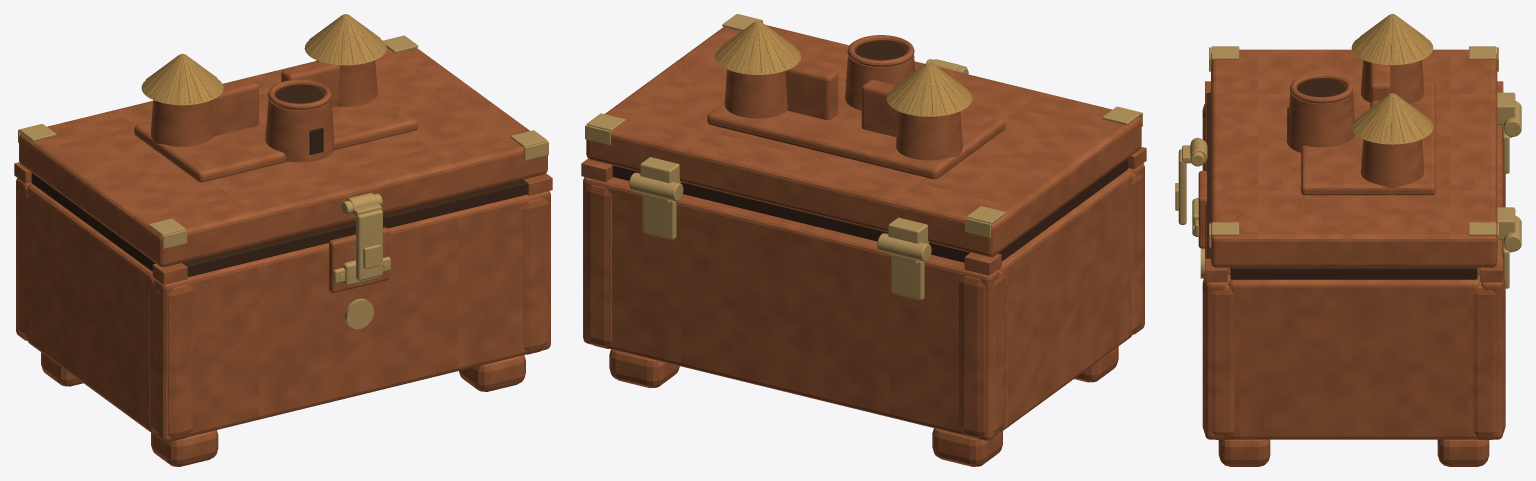
The model's file is benin.glb.
The picture shows the model from 3 angles, left to right: view 1: azimuth 30°, elevation 25°; view 2: azimuth 150°, elevation 25°; view 3: azimuth 270°, elevation 25°; orthographic projection. The views are drawn at different scales.
Visible parts, largest first — view 1: Earth body / front, Lid / polished slab, Earth body / side, Takienta / terrace, Earth / rounded buttress, Umber seam / long, Earth / rounded buttress.002, Takienta / tower flat, Takienta / thatched roof, Takienta / thatched roof.001, Takienta / tower roofed, Takienta / joining wall (+13 smaller); view 2: Earth body / rear, Lid / polished slab, Earth body / side, Takienta / terrace, Earth / rounded buttress.001, Earth / rounded buttress.003, Umber seam / long.001, Takienta / tower roofed, Takienta / thatched roof.001, Takienta / thatched roof, Takienta / tower roofed.001, Takienta / joining wall.001 (+17 smaller); view 3: Lid / polished slab, Earth body / side.001, Takienta / terrace, Earth / rounded buttress.002, Earth / rounded buttress.003, Umber seam / side.001, Takienta / tower flat, Takienta / tower roofed.001, Takienta / thatched roof.001, Takienta / thatched roof, Earth body / rear, Earth body / front (+19 smaller).
Part boxes in pixels (<box>): Earth body / front: <box>154,191,550,441</box>; Lid / polished slab: <box>19,47,547,266</box>; Earth body / side: <box>27,184,154,433</box>; Takienta / terrace: <box>134,92,418,182</box>; Earth / rounded buttress: <box>149,278,192,441</box>; Umber seam / long: <box>182,179,527,276</box>; Earth / rounded buttress.002: <box>523,198,548,354</box>; Takienta / tower flat: <box>265,92,334,162</box>; Takienta / thatched roof: <box>141,53,223,105</box>; Takienta / thatched roof.001: <box>304,14,386,65</box>; Takienta / tower roofed: <box>150,100,213,150</box>; Takienta / joining wall: <box>210,79,258,136</box>; Earth body / rear: <box>583,177,999,440</box>; Lid / polished slab: <box>586,25,1141,256</box>; Earth body / side: <box>999,170,1132,431</box>; Takienta / terrace: <box>707,79,1005,179</box>; Earth / rounded buttress.001: <box>959,269,1005,439</box>; Earth / rounded buttress.003: <box>585,184,611,348</box>; Umber seam / long.001: <box>612,165,970,262</box>; Takienta / tower roofed: <box>896,111,962,164</box>; Takienta / thatched roof.001: <box>715,21,800,74</box>; Takienta / thatched roof: <box>886,62,972,116</box>; Takienta / tower roofed.001: <box>724,69,787,118</box>; Takienta / joining wall.001: <box>785,61,838,120</box>; Lid / polished slab: <box>1211,49,1497,267</box>; Earth body / side.001: <box>1228,279,1479,439</box>; Takienta / terrace: <box>1301,81,1435,195</box>; Earth / rounded buttress.002: <box>1202,274,1234,439</box>; Earth / rounded buttress.003: <box>1473,274,1505,439</box>; Umber seam / side.001: <box>1230,267,1477,279</box>; Takienta / tower flat: <box>1286,85,1355,152</box>; Takienta / tower roofed.001: <box>1360,139,1424,195</box>; Takienta / thatched roof.001: <box>1351,93,1433,144</box>; Takienta / thatched roof: <box>1351,14,1433,65</box>; Earth body / rear: <box>1481,125,1503,439</box>; Earth body / front: <box>1205,105,1226,439</box>.
Size of the model in its own units: 3.74 by 3.02 by 2.88.
Materials: 5 (2 with a texture image).
